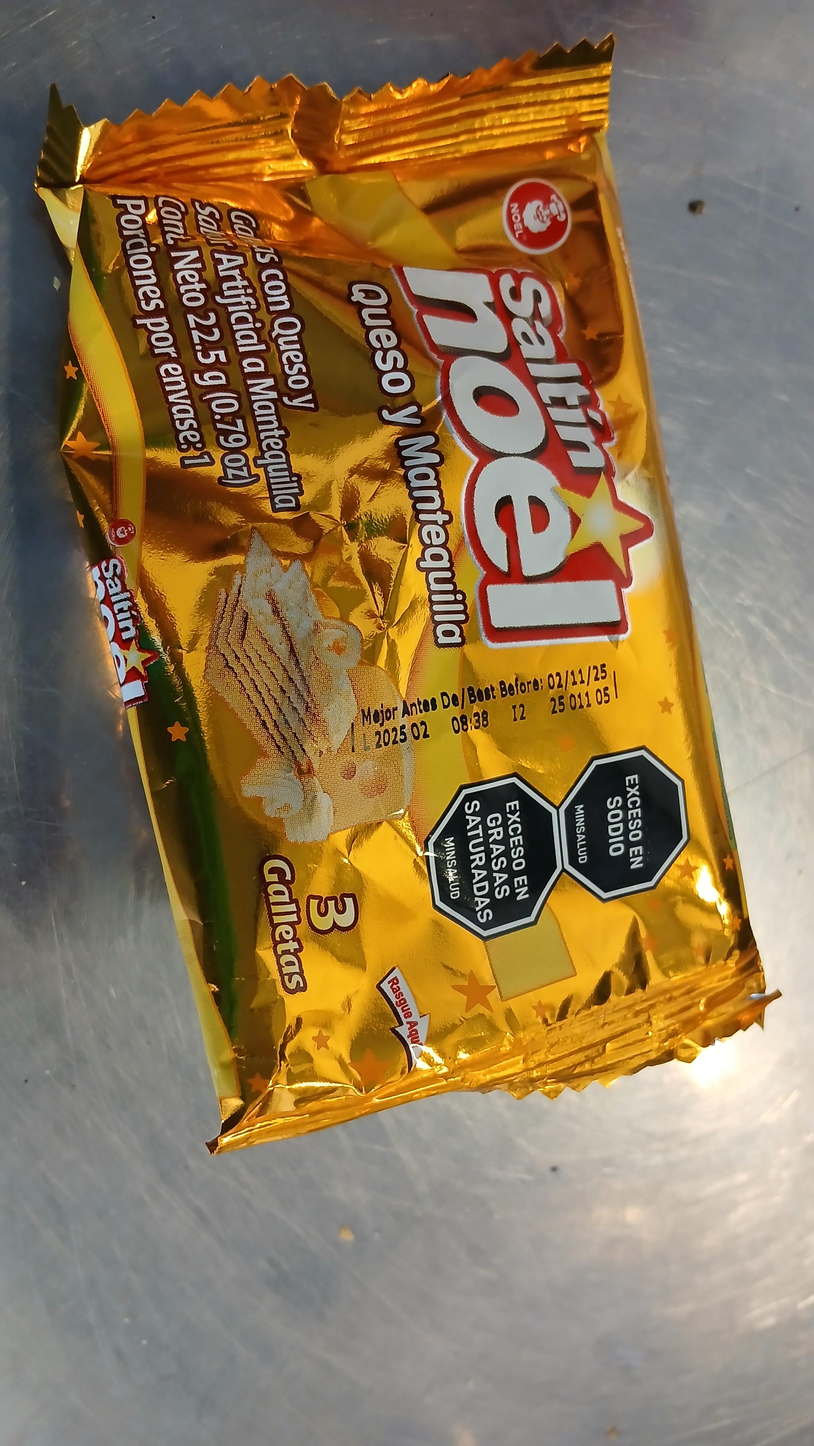Ordinario: (30, 32, 779, 1158)
